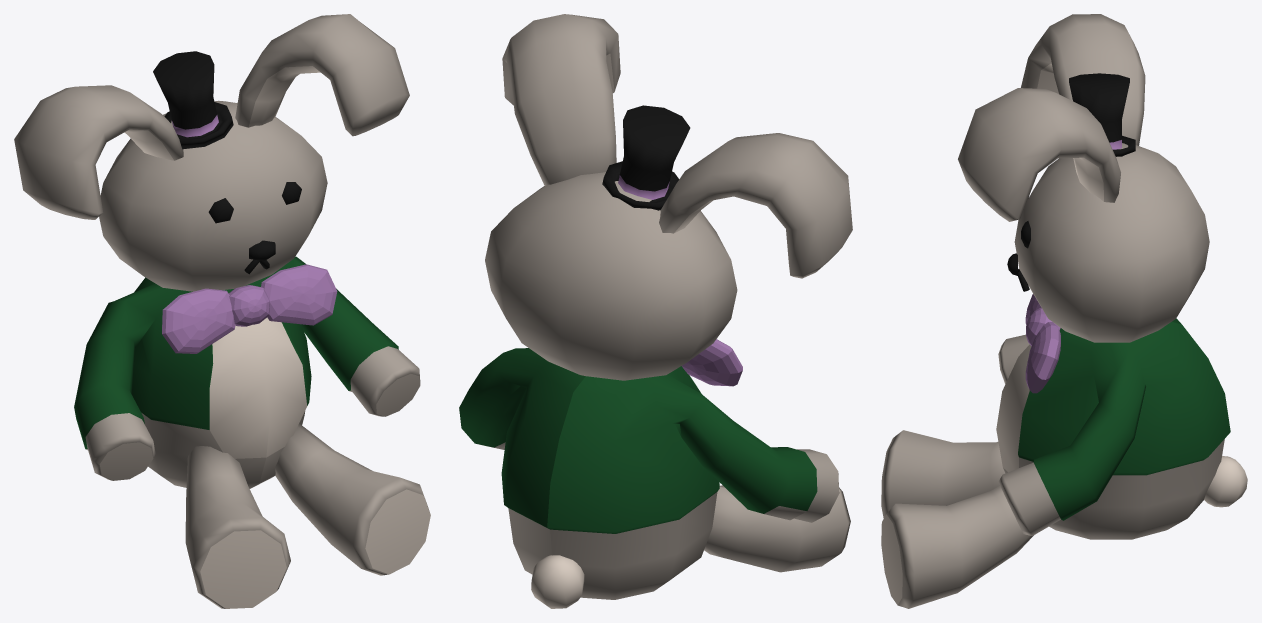
The model's file is McStuffins_01.fbx.
The picture shows the model from 3 angles, left to right: view 1: azimuth 30°, elevation 25°; view 2: azimuth 150°, elevation 25°; view 3: azimuth 270°, elevation 25°; orthographic projection. The views are drawn at different scales.
Visible parts, largest first — view 1: McStuffins1; view 2: McStuffins1; view 3: McStuffins1.
Part boxes in pixels (left/top/right/bottom): McStuffins1: left=14, top=14, right=430, bottom=608; McStuffins1: left=459, top=14, right=852, bottom=608; McStuffins1: left=881, top=14, right=1247, bottom=608.
Size of the model in its own units: 7.92 by 10.62 by 6.85.
